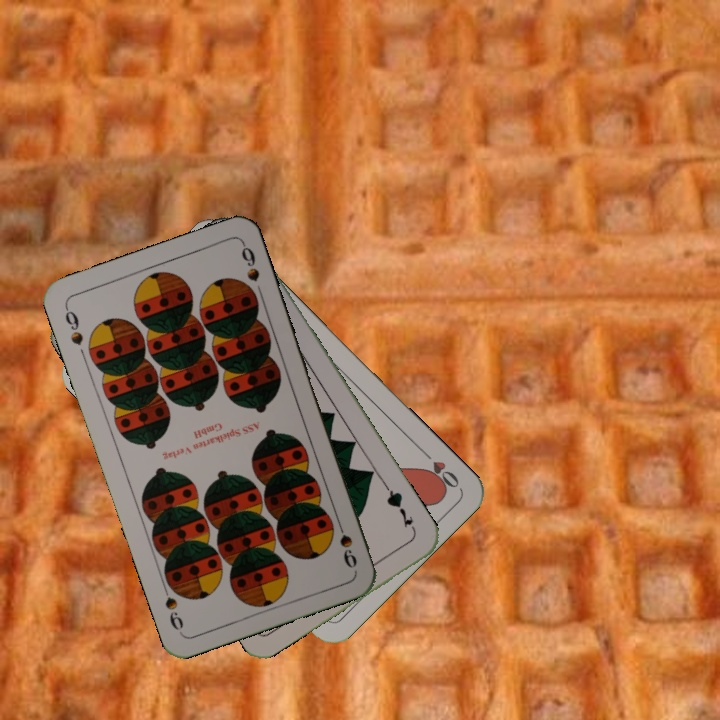G7: (381, 482, 419, 536)
HO: (417, 444, 462, 493)
S9: (332, 514, 360, 571), (60, 302, 86, 348)
